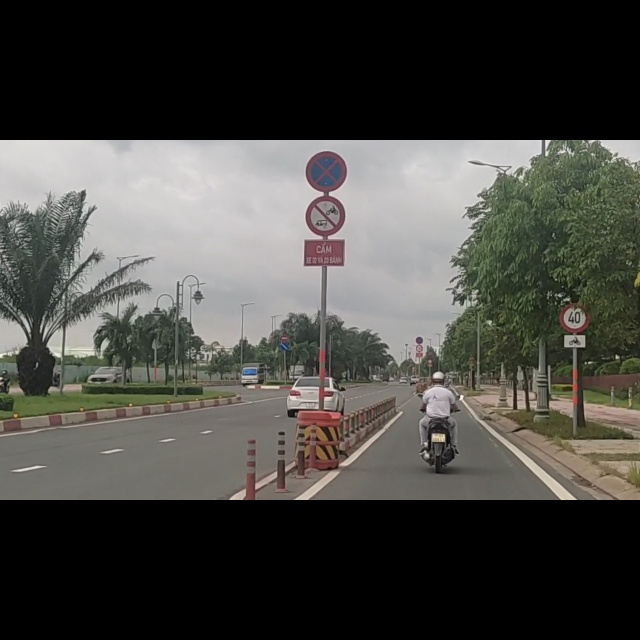bien_cam: (303, 17, 347, 96), (303, 100, 347, 175), (560, 292, 590, 344), (561, 345, 588, 373)
